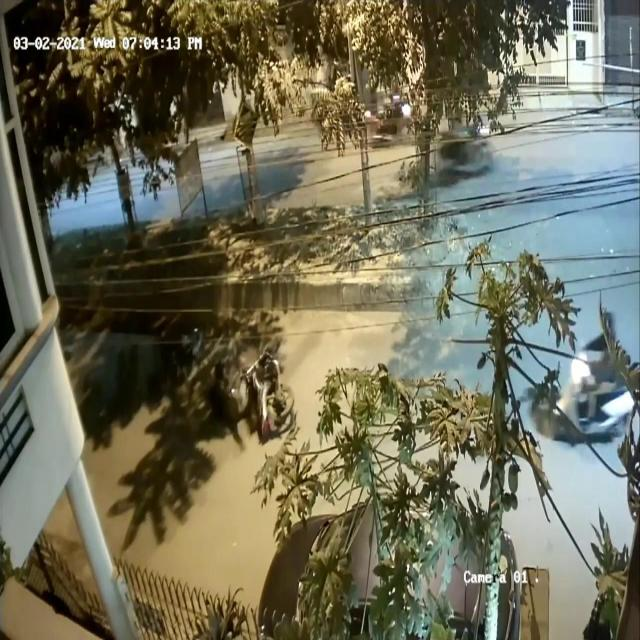accident: (185, 336, 301, 440)
